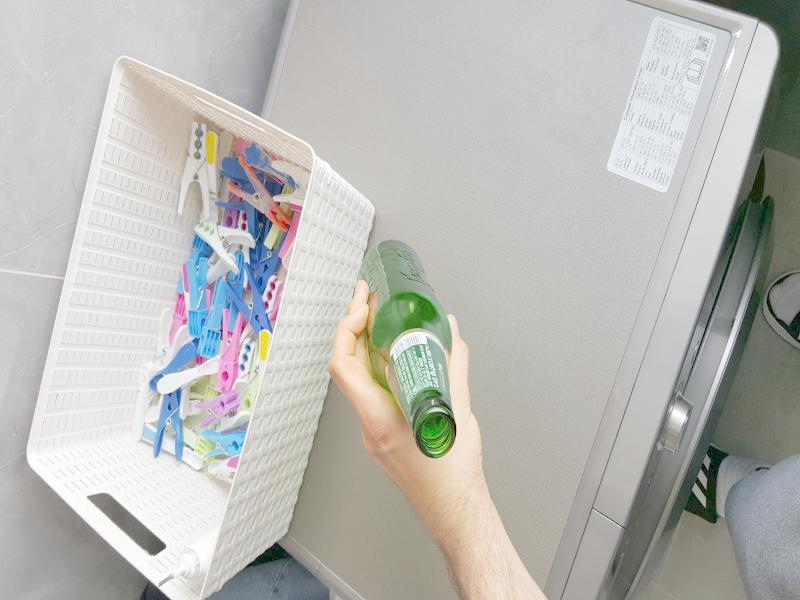Beer: (355, 241, 457, 457)
